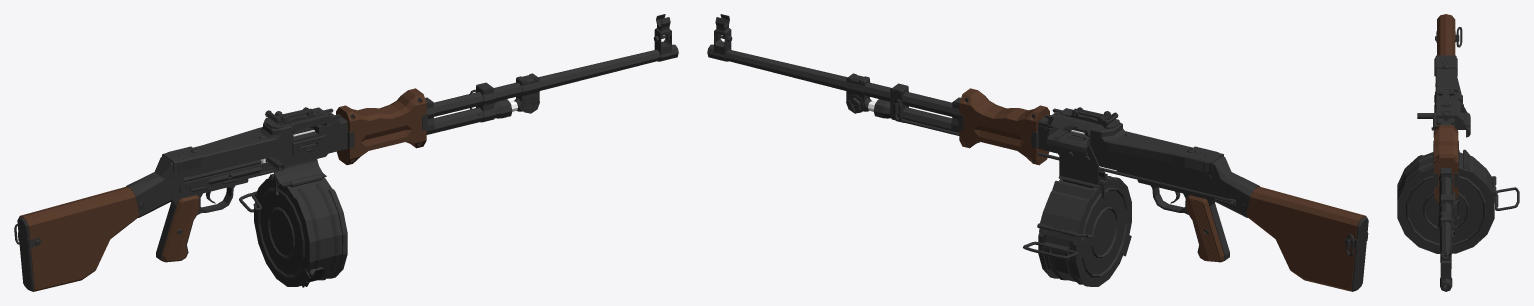
Rendered from Networked Grabbable.glb.
3 views of the same model, side by side, from view 1: azimuth 30°, elevation 25°; view 2: azimuth 150°, elevation 25°; view 3: azimuth 270°, elevation 25° (orthographic). The views are drawn at different scales.
Visible parts, largest first — view 1: machine_gun; view 2: machine_gun; view 3: machine_gun.
Boxes of the visible parts, left/top/right/bottom form: machine_gun: left=14, top=14, right=678, bottom=291; machine_gun: left=707, top=14, right=1368, bottom=291; machine_gun: left=1397, top=14, right=1519, bottom=291.
Bounding box in the file's own units: 1.01 × 0.2558 × 0.187.
